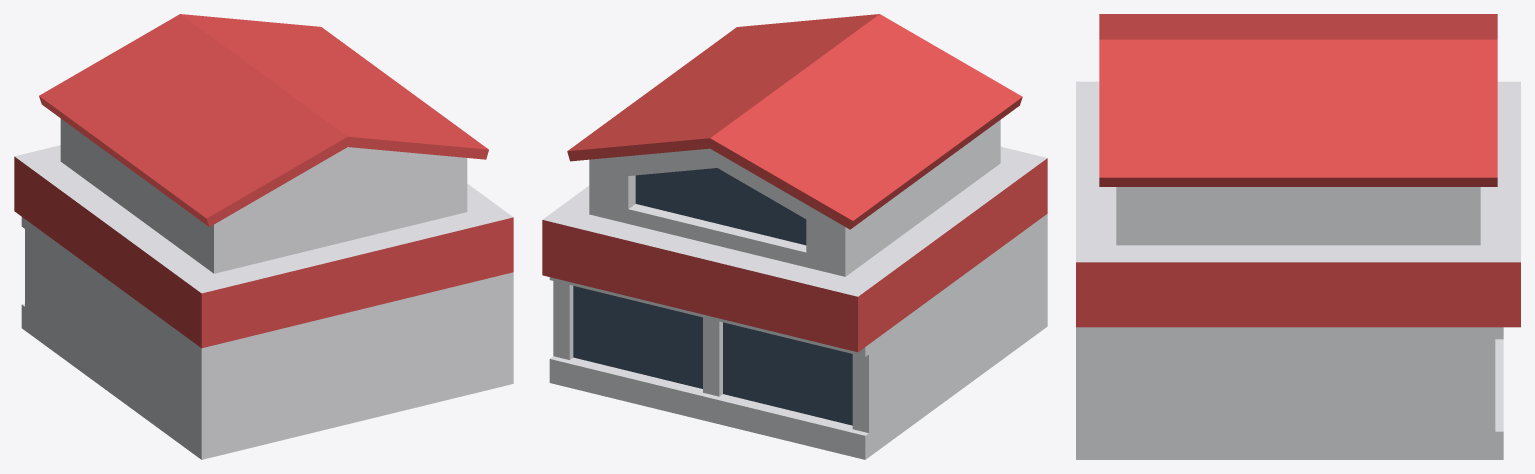
Rendered from pitsOfficeRoof.obj.
The picture shows the model from 3 angles, left to right: view 1: azimuth 30°, elevation 25°; view 2: azimuth 150°, elevation 25°; view 3: azimuth 270°, elevation 25°; orthographic projection. The views are drawn at different scales.
Visible parts, largest first — view 1: pitsOfficeRoof; view 2: pitsOfficeRoof; view 3: pitsOfficeRoof.
Part boxes in pixels (x1,y1,x2,y2): pitsOfficeRoof: [14, 14, 513, 459]; pitsOfficeRoof: [542, 14, 1047, 459]; pitsOfficeRoof: [1076, 14, 1520, 459].
Size of the model in its own units: 1 by 0.8515 by 1.04.
